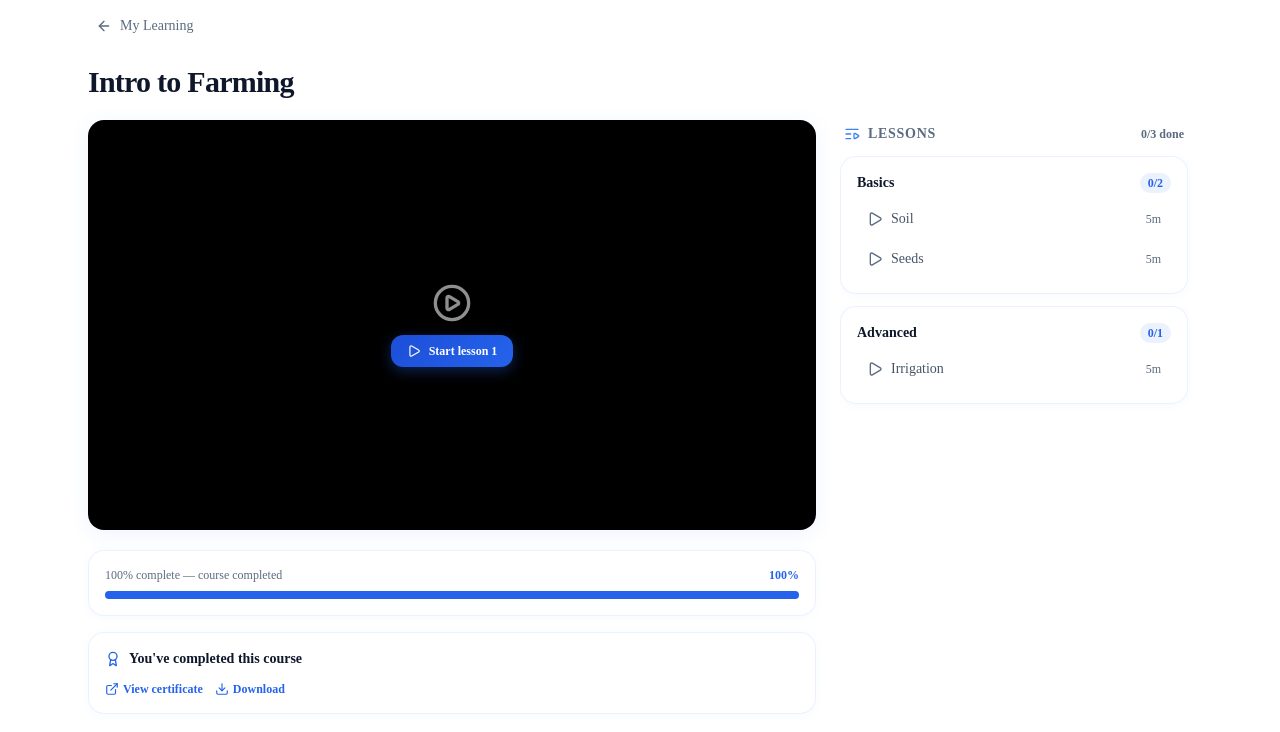
completion › a failed Download shows a message instead of throwing
Click the button "Download".
click(250, 688)  # box [215, 680, 285, 696]
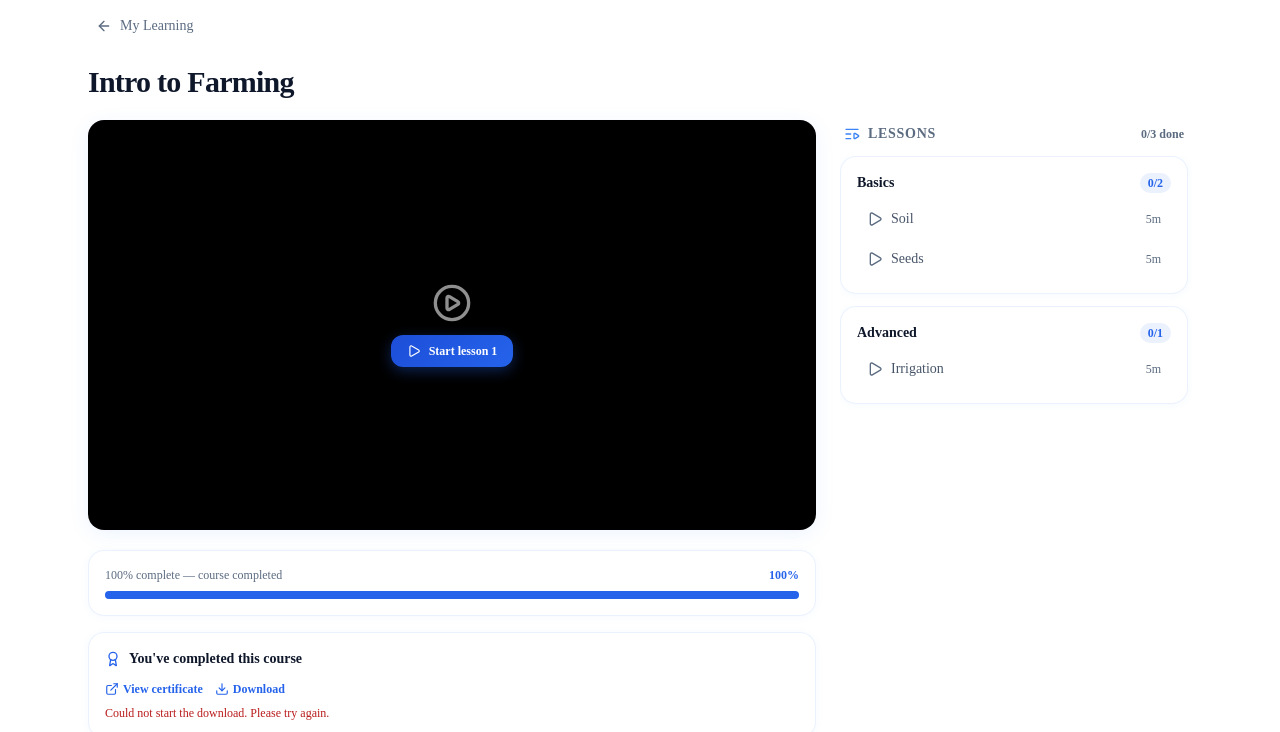
Now the text "Could not start the download. Please try again." is shown, box [105, 706, 329, 720]
